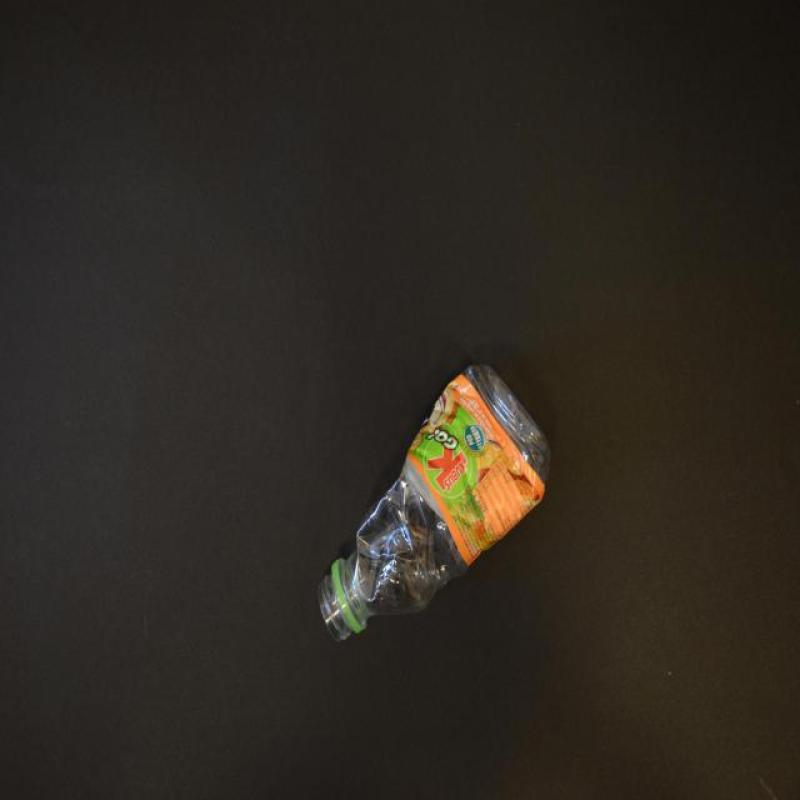botella: (316, 364, 550, 644)
